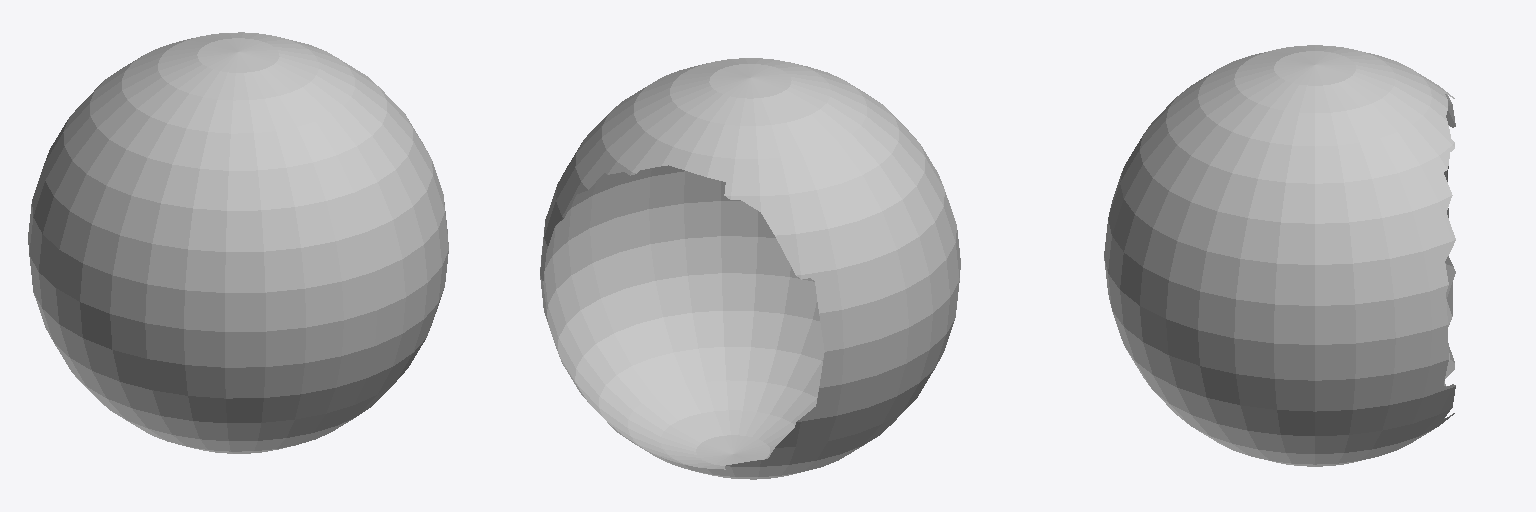
The model's file is dome.obj.
The picture shows the model from 3 angles: view 1: azimuth 30°, elevation 25°; view 2: azimuth 150°, elevation 25°; view 3: azimuth 270°, elevation 25°; orthographic projection.
Visible parts, largest first — view 1: Sphere; view 2: Sphere, Sphere.1; view 3: Sphere.
Part boxes in pixels (bbox=[...]): Sphere: bbox=[28, 32, 448, 453]; Sphere: bbox=[540, 58, 960, 479]; Sphere.1: bbox=[543, 165, 824, 469]; Sphere: bbox=[1104, 45, 1455, 466].
Bounding box in the file's own units: 354 × 354 × 295.